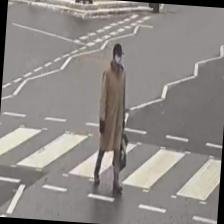person: (92, 41, 132, 190)
